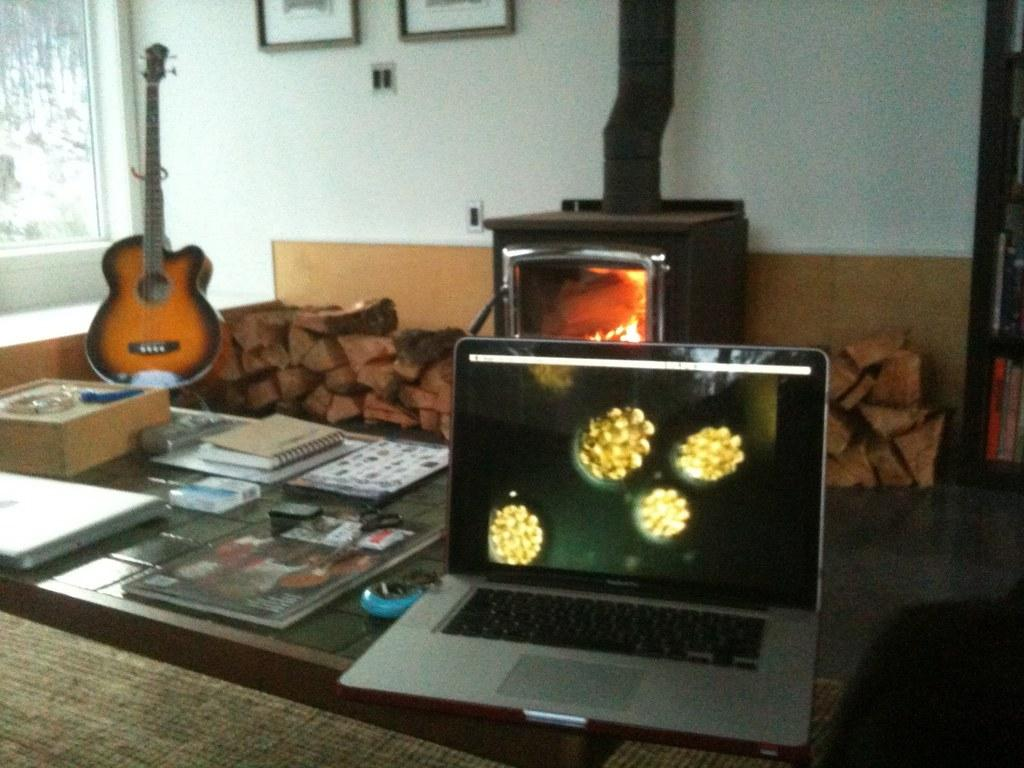Fire: (549, 267, 657, 351)
